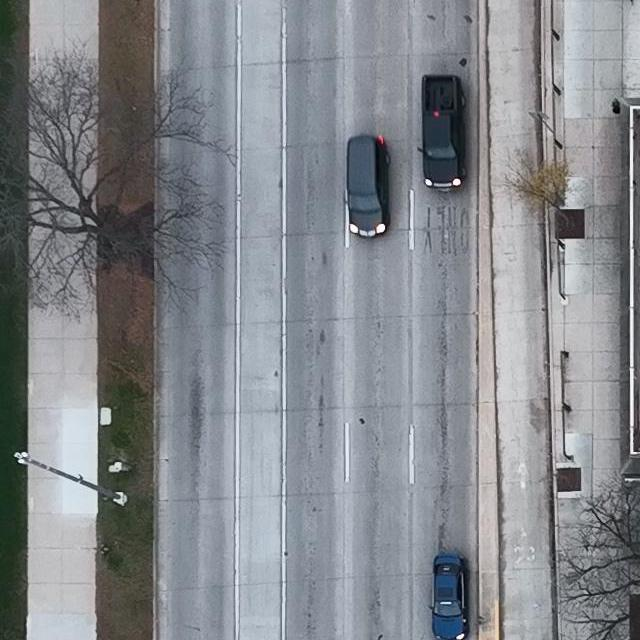car: (417, 74, 467, 194), (344, 135, 391, 240), (428, 553, 471, 640)
